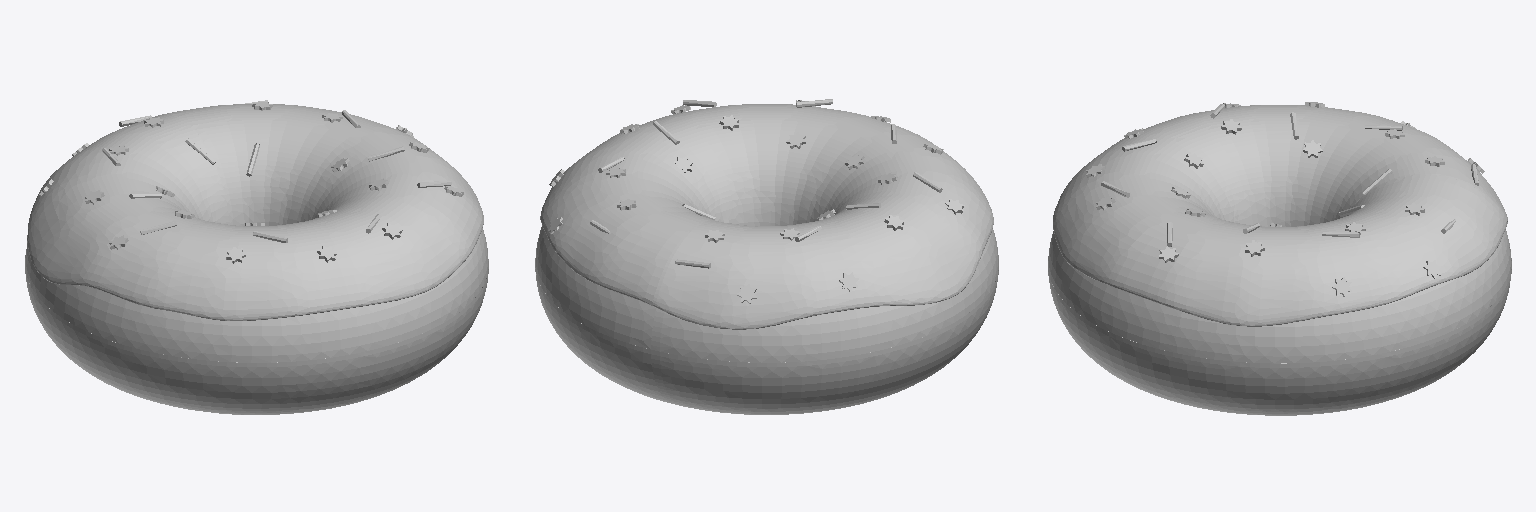
The model's file is OBJ_Donut.obj.
The picture shows the model from 3 angles: view 1: azimuth 30°, elevation 25°; view 2: azimuth 150°, elevation 25°; view 3: azimuth 270°, elevation 25°; orthographic projection.
Visible parts, largest first — view 1: Object_13; view 2: Object_13; view 3: Object_13.
Part boxes in pixels (bbox=[...]): Object_13: bbox=[25, 100, 488, 414]; Object_13: bbox=[535, 99, 998, 414]; Object_13: bbox=[1048, 102, 1511, 415].
Bounding box in the file's own units: 1.18 × 0.5067 × 1.18.